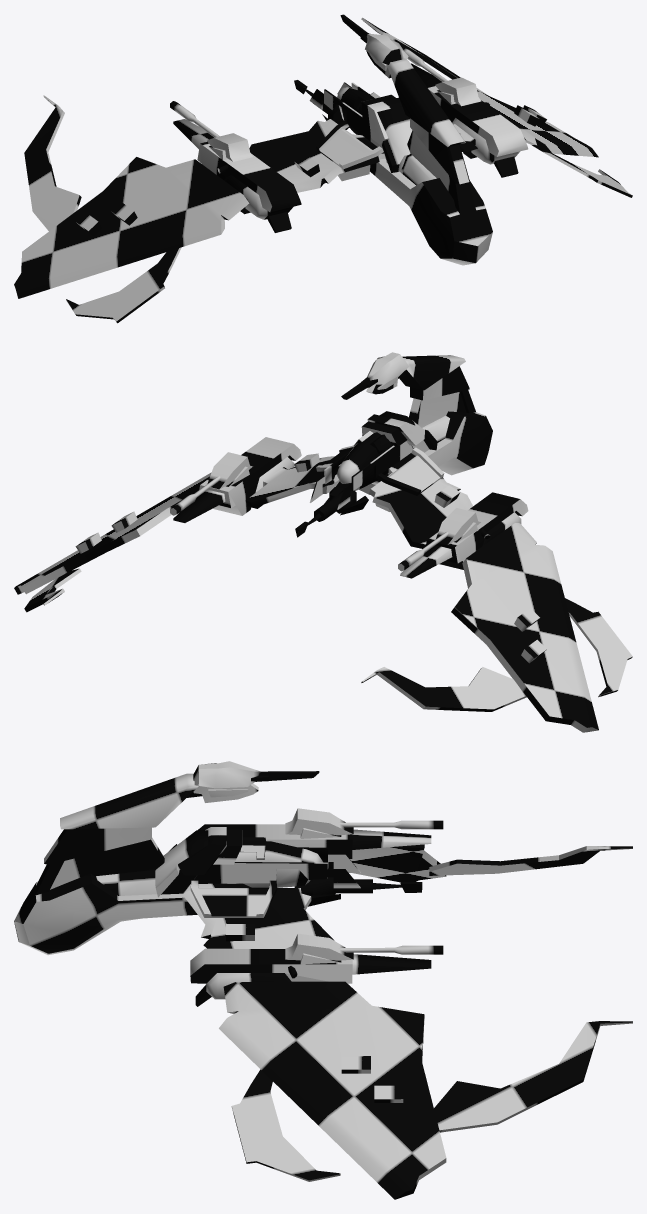
File: goliath_venom.obj
3 views of the same model, one above another, from view 1: azimuth 30°, elevation 25°; view 2: azimuth 150°, elevation 25°; view 3: azimuth 270°, elevation 25° (orthographic). The views are drawn at different scales.
Parts seen in each view (by area): view 1: main; view 2: main; view 3: main.
Part boxes in pixels (x1,y1,x2,y2): main: (14,14,632,323); main: (14,352,632,732); main: (14,761,632,1199).
Bounding box in the file's own units: 165 × 66.34 × 135.
1 material, 1 textured.
